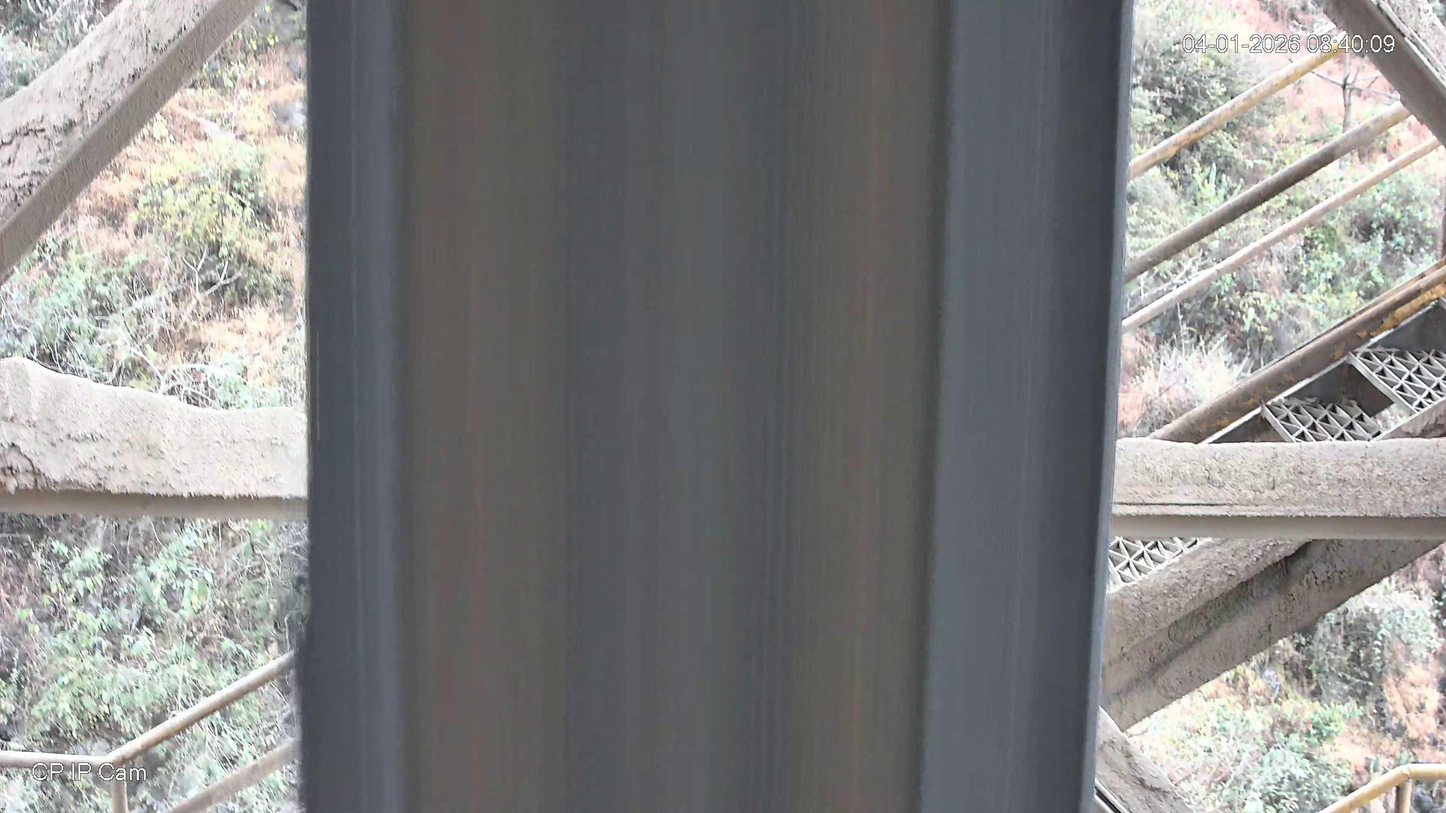belt_roi: (299, 0, 1130, 813)
